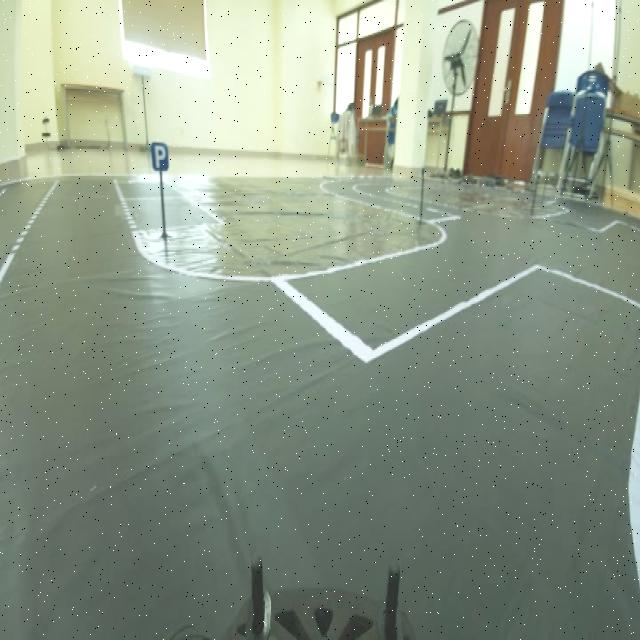parking: (150, 134, 182, 173)
